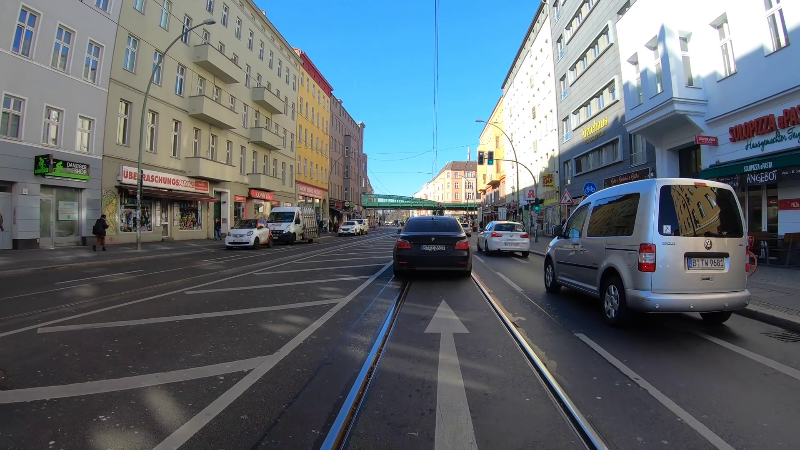Plate: (685, 256, 726, 268), (419, 243, 445, 251), (504, 241, 521, 246)
